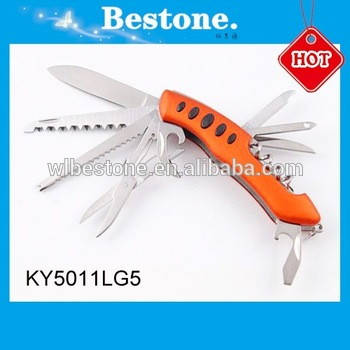knief: (38, 53, 320, 281)
